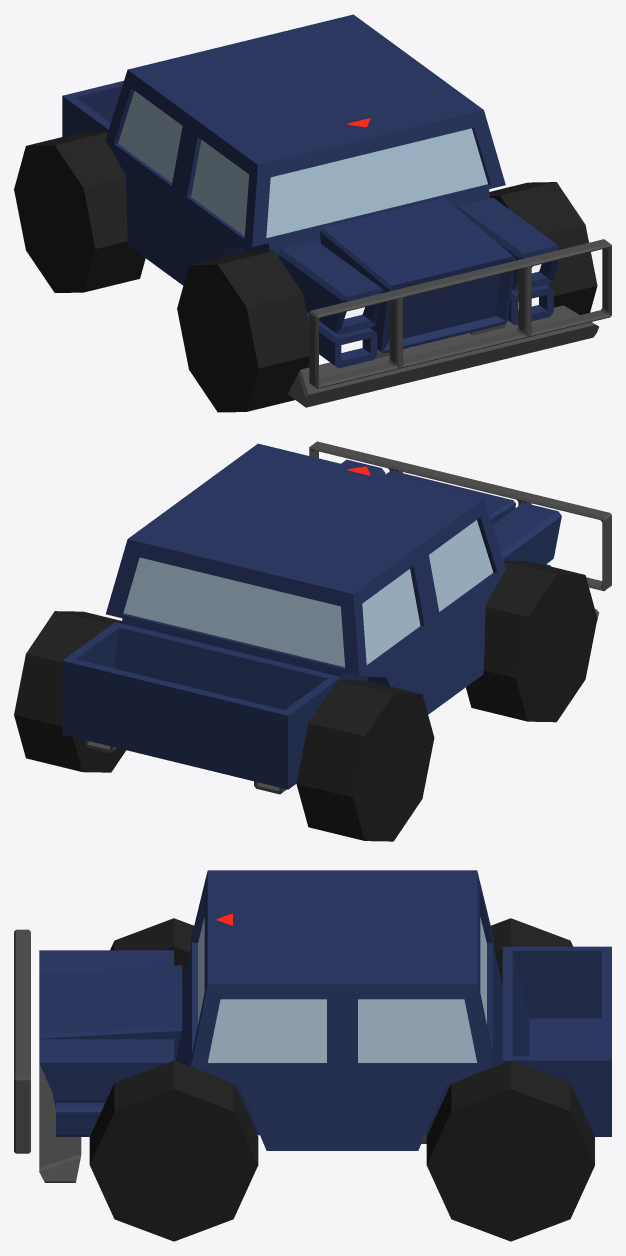
File: car0.glb
The picture shows the model from 3 angles, top to bottom: view 1: azimuth 30°, elevation 25°; view 2: azimuth 150°, elevation 25°; view 3: azimuth 270°, elevation 25°; orthographic projection. The views are drawn at different scales.
Visible parts, largest first — view 1: body, tire_right, frontpack, bamper, BR, headlight, tire_left, backpack; view 2: body, backpack, BR, tire_right, BL, bamper, headlight, frontpack; view 3: body, tire_left, BL, backpack, headlight, frontpack, bamper, tire_right, BR.
Part boxes in pixels (left/top/right/bottom): body: left=105, top=14, right=505, bottom=285; tire_right: left=177, top=251, right=309, bottom=412; frontpack: left=320, top=198, right=515, bottom=353; bamper: left=288, top=239, right=611, bottom=407; BR: left=14, top=131, right=145, bottom=292; headlight: left=278, top=197, right=561, bottom=368; tire_left: left=489, top=182, right=597, bottom=314; backpack: left=62, top=81, right=123, bottom=136; body: left=106, top=443, right=505, bottom=714; backpack: left=62, top=622, right=341, bottom=789; BR: left=296, top=680, right=434, bottom=841; tire_right: left=466, top=560, right=597, bottom=722; BL: left=14, top=611, right=125, bottom=772; bamper: left=84, top=441, right=611, bottom=794; headlight: left=341, top=459, right=561, bottom=566; frontpack: left=385, top=470, right=515, bottom=524; body: left=176, top=870, right=502, bottom=1150; tire_left: left=89, top=1060, right=258, bottom=1241; BL: left=426, top=1060, right=594, bottom=1241; backpack: left=502, top=946, right=611, bottom=1136; headlight: left=39, top=950, right=173, bottom=1136; frontpack: left=39, top=965, right=182, bottom=1108; bamper: left=14, top=929, right=427, bottom=1182; tire_right: left=110, top=918, right=193, bottom=985; BR: left=491, top=918, right=572, bottom=985.
Size of the model in its own units: 2.4 by 1.56 by 3.55.
